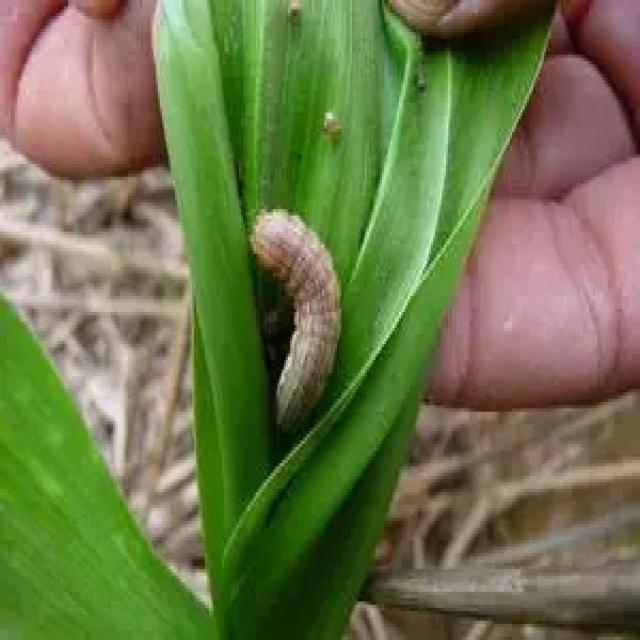pest: (252, 210, 342, 415)
